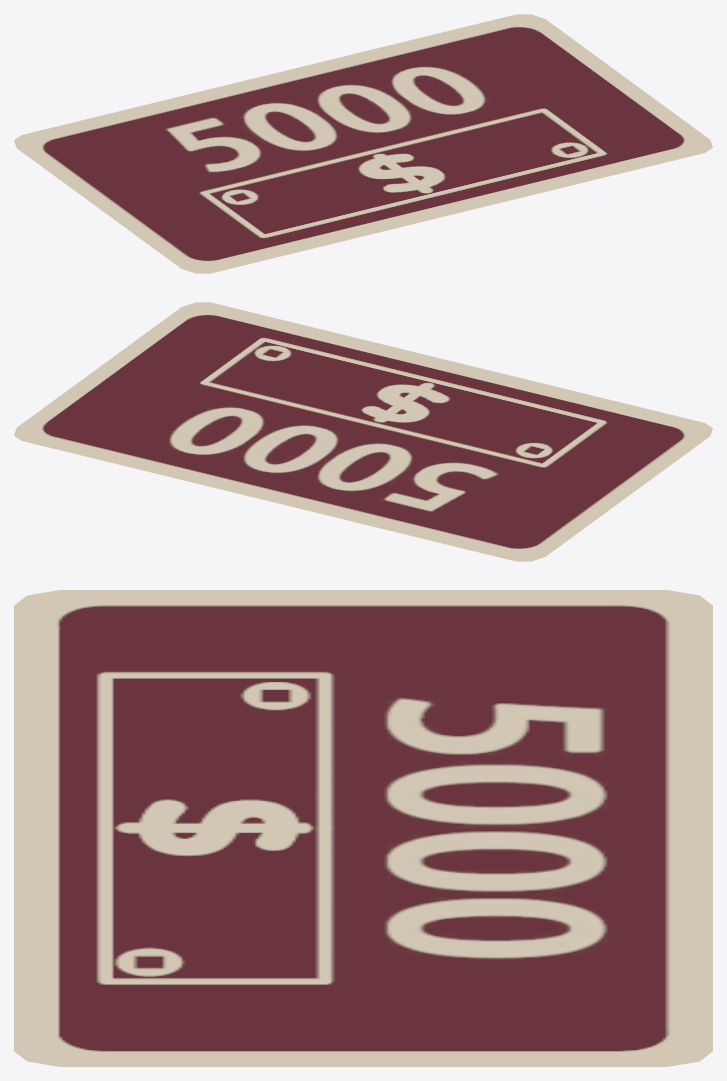
The model's file is Sucai_012.FBX.
3 renders of one model, top to bottom at view 1: azimuth 30°, elevation 25°; view 2: azimuth 150°, elevation 25°; view 3: azimuth 270°, elevation 25°, orthographic. The views are drawn at different scales.
Visible parts, largest first — view 1: Sucai_012; view 2: Sucai_012; view 3: Sucai_012.
Boxes of the visible parts, x1,y1,x2,y2 form: Sucai_012: (14,14,712,273); Sucai_012: (14,302,712,561); Sucai_012: (14,590,712,1066).
Size of the model in its own units: 2.88 by 7.82e-08 by 1.78.
1 material, 1 textured.
